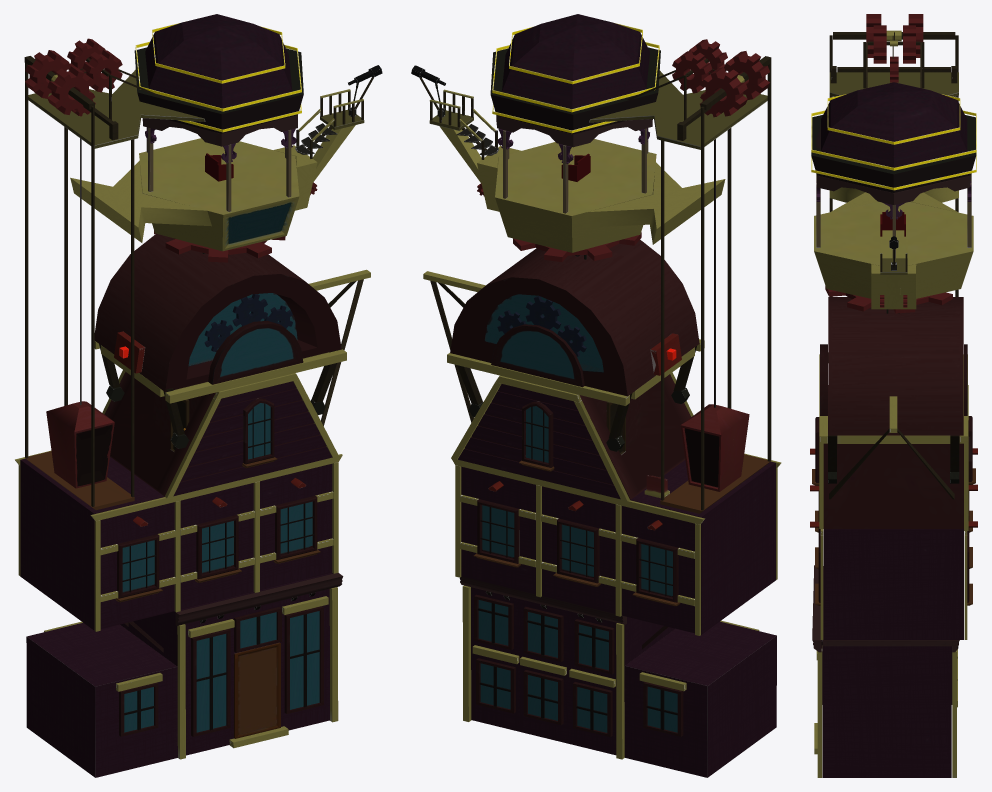
The model's file is HUB_Bld_Cartographer 1.fbx.
3 views of the same model, side by side, from view 1: azimuth 30°, elevation 25°; view 2: azimuth 150°, elevation 25°; view 3: azimuth 270°, elevation 25° (orthographic). The views are drawn at different scales.
Visible parts, largest first — view 1: polySurface361; view 2: polySurface361; view 3: polySurface361.
Part boxes in pixels (x1,y1,x2,y2): polySurface361: (15,14,382,777); polySurface361: (411,14,781,777); polySurface361: (810,14,977,777).
Bounding box in the file's own units: 3517 × 6847 × 1585.
